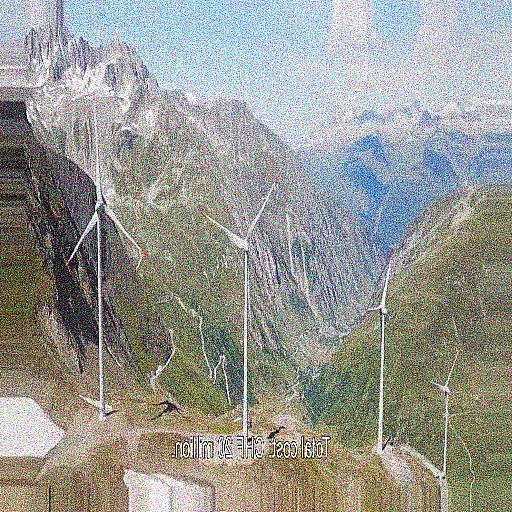wind turbine: (66, 103, 144, 412), (204, 179, 277, 424), (363, 250, 393, 439), (430, 350, 462, 474)
